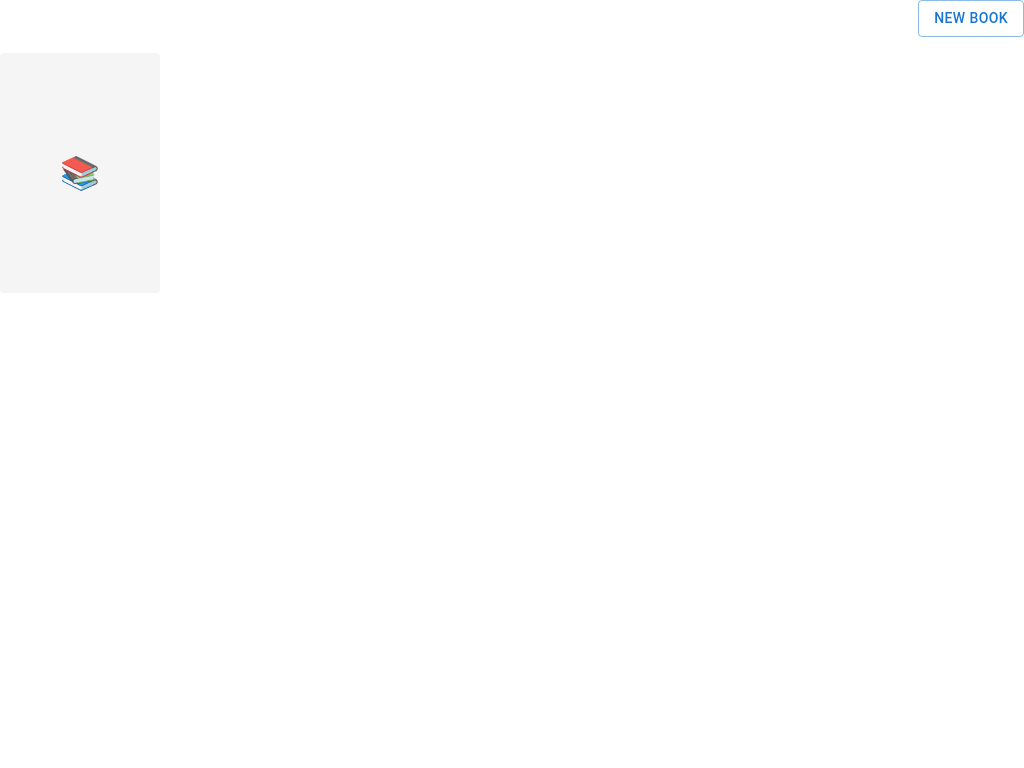
Scenario: Booklist tests › Open new book modal
The width and height of the screenshot is (1024, 768).
What coordinates should you click on to do the following:
click the button "New Book"
I would click on:
 (971, 18)
Its box is [918,0,1023,36].
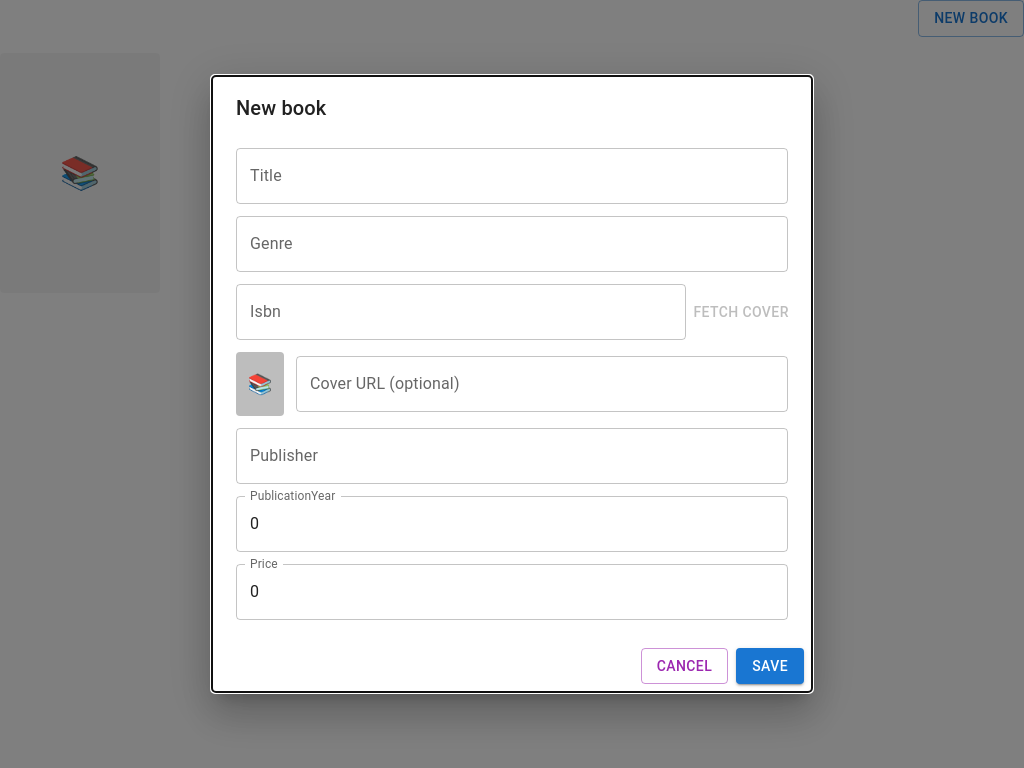
Now the button "Save" is shown, box [736,648,804,684]
